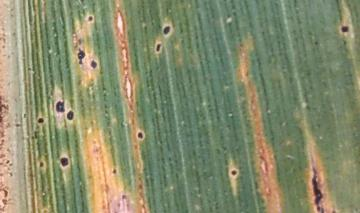tarspot: (311, 168, 324, 213), (77, 47, 86, 65), (54, 100, 65, 114), (65, 109, 75, 121), (60, 155, 69, 168), (162, 23, 171, 36), (229, 167, 238, 176), (154, 43, 162, 53), (90, 60, 98, 69), (341, 25, 349, 34), (37, 116, 44, 124), (111, 166, 117, 175), (138, 131, 144, 140), (87, 14, 94, 21), (38, 161, 45, 168), (313, 39, 320, 46), (120, 193, 127, 199), (14, 122, 21, 128), (332, 210, 337, 213)
